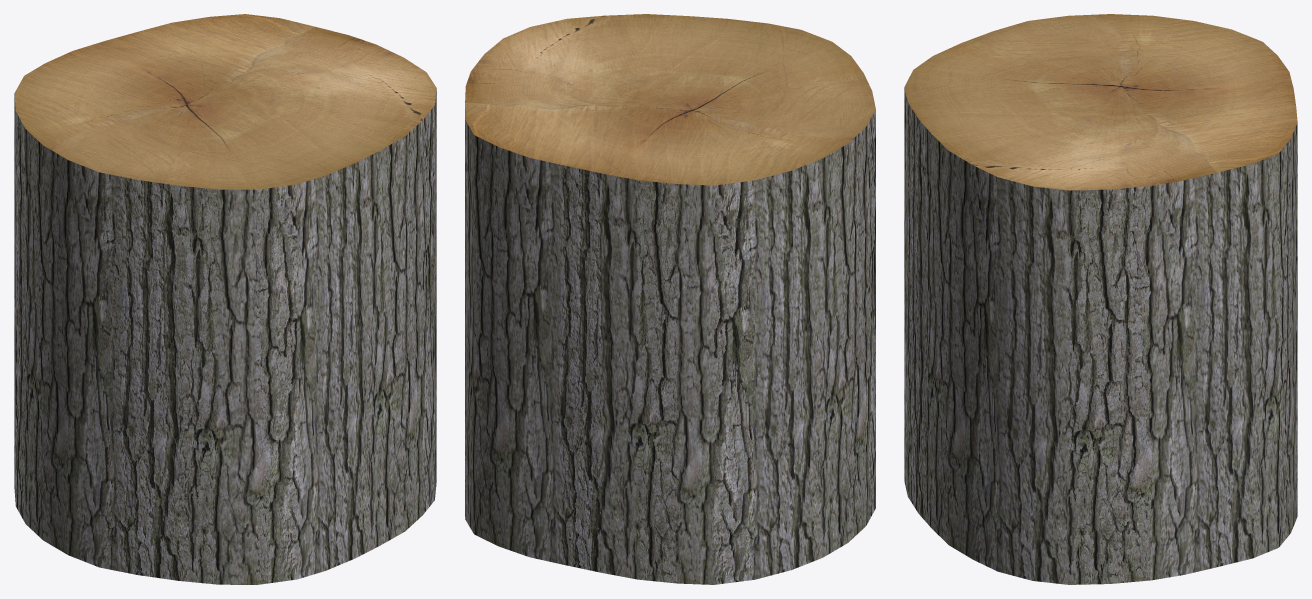
File: stump stool.fbx
The picture shows the model from 3 angles, left to right: view 1: azimuth 30°, elevation 25°; view 2: azimuth 150°, elevation 25°; view 3: azimuth 270°, elevation 25°; orthographic projection.
Visible parts, largest first — view 1: stump stool; view 2: stump stool; view 3: stump stool.
Boxes of the visible parts, <box> form: stump stool: <box>14,14,436,584</box>; stump stool: <box>465,14,875,584</box>; stump stool: <box>904,14,1297,584</box>.
Size of the model in its own units: 47.99 by 45.18 by 50.
